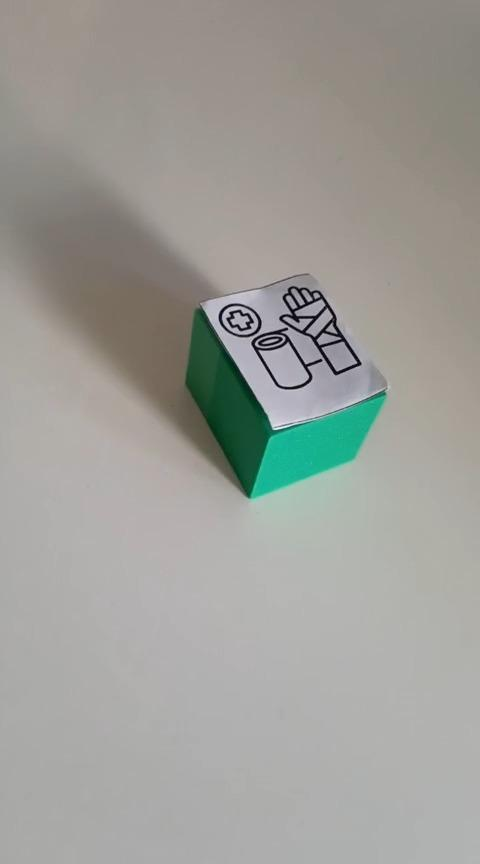Bandages: (183, 271, 388, 499)
